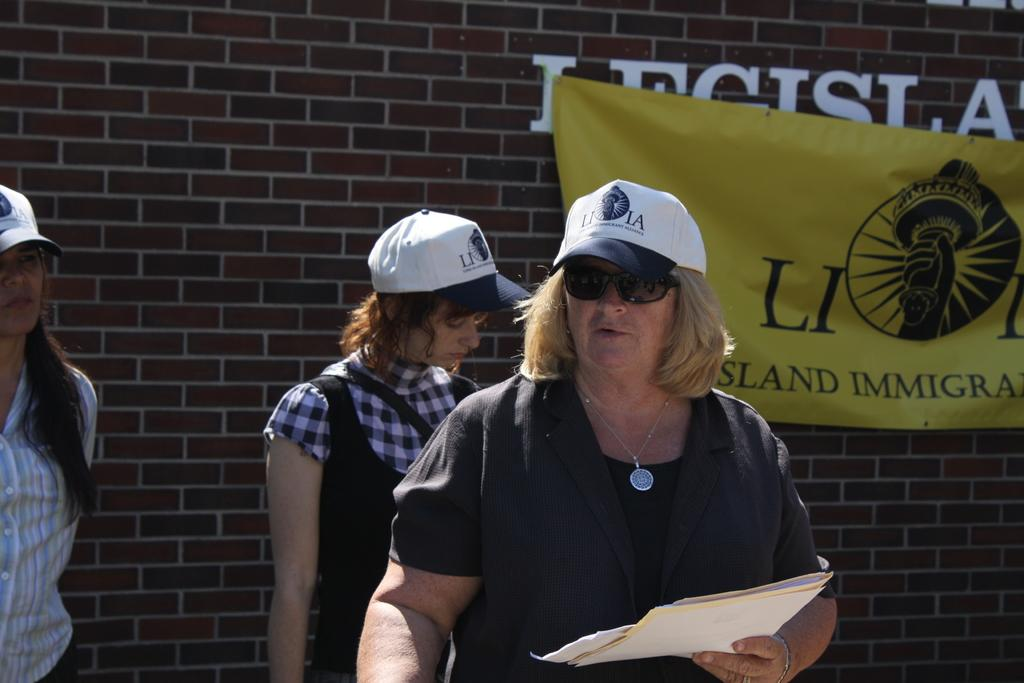Hat: (366, 209, 534, 313), (537, 181, 705, 284), (0, 182, 56, 258)
